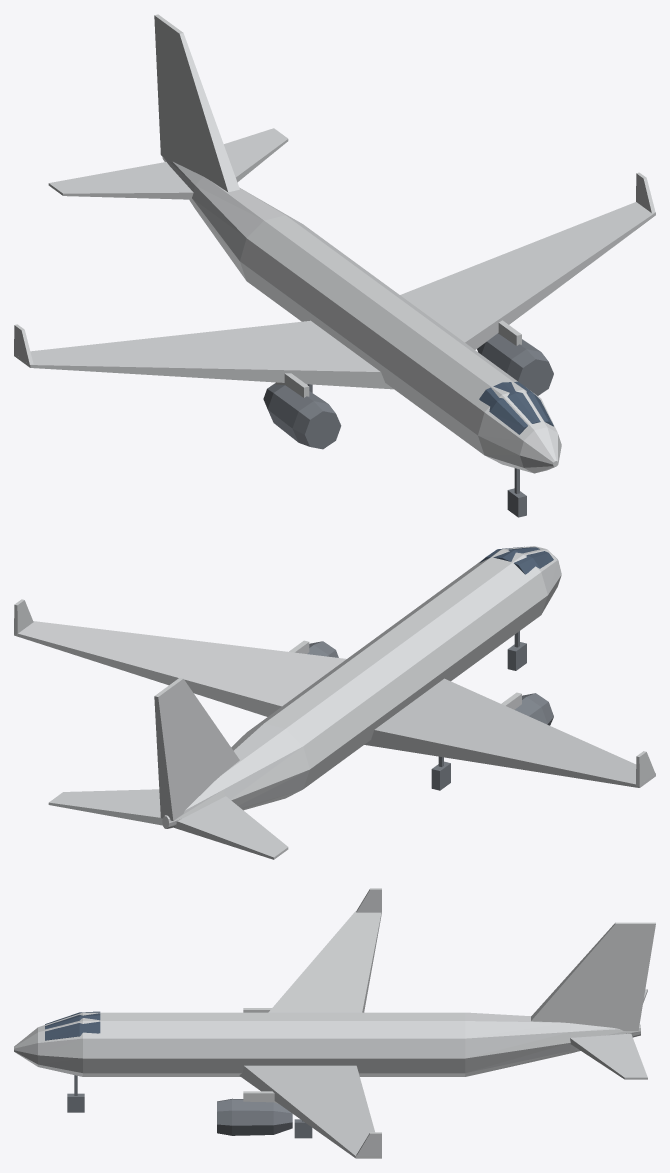
File: narrowbody.glb
3 views of the same model, one above another, from view 1: azimuth 30°, elevation 25°; view 2: azimuth 150°, elevation 25°; view 3: azimuth 270°, elevation 25° (orthographic). The views are drawn at different scales.
Parts seen in each view (by area): view 1: narrowbody; view 2: narrowbody; view 3: narrowbody.
Part boxes in pixels (<box>): narrowbody: <box>14,14,655,517</box>; narrowbody: <box>14,546,655,859</box>; narrowbody: <box>14,888,655,1158</box>.
Bounding box in the file's own units: 1 × 0.3568 × 1.11.
